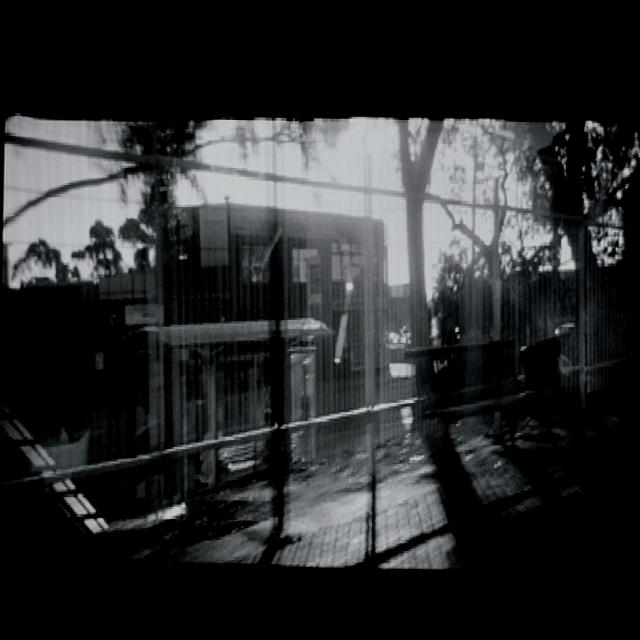Vehicle: (554, 322, 576, 348)
